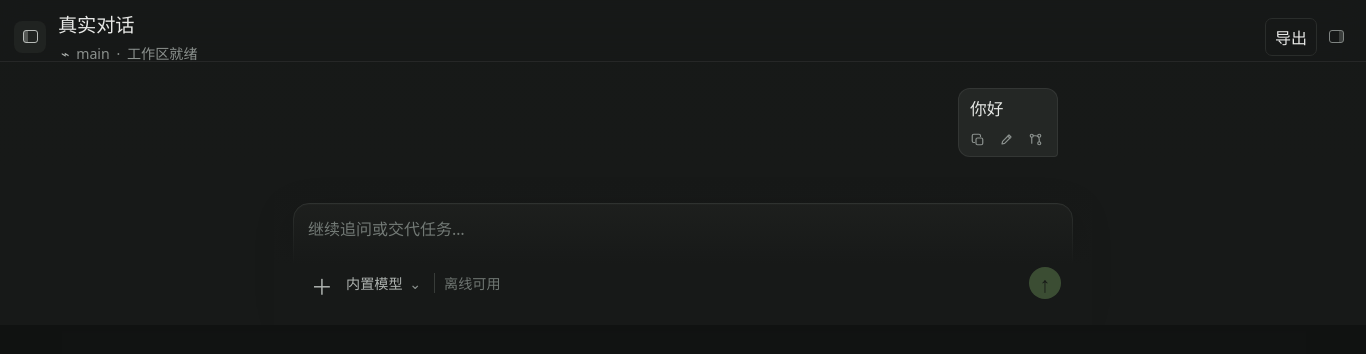
Test case: conversation timeline projection › keeps selected attachments while recalling history and explains attachment limits
The image size is (1366, 354).
Click the button named "添加上下文文件" at (319, 283), box [305, 269, 333, 297]
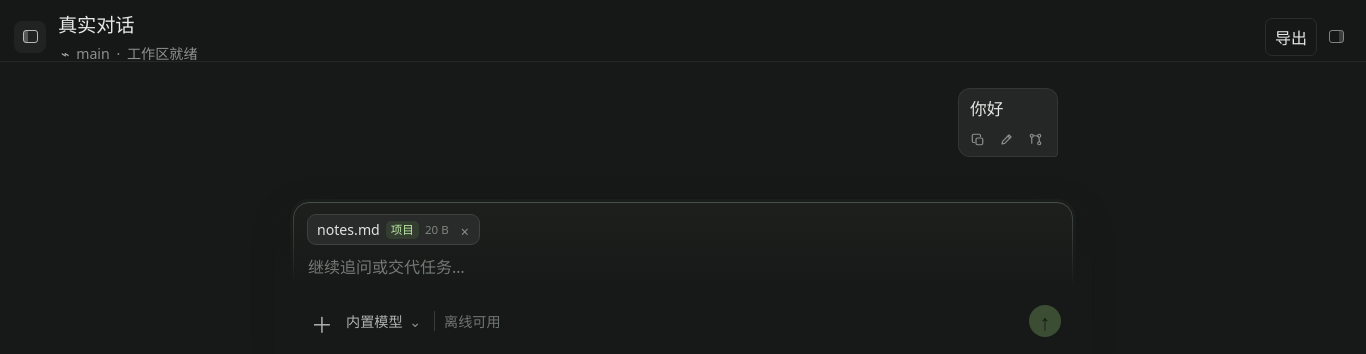
Now the element named "已添加上下文" shows "notes.md", box [317, 220, 380, 239]
Press ArrowUp in the text box named "任务输入", box [305, 253, 1061, 305]
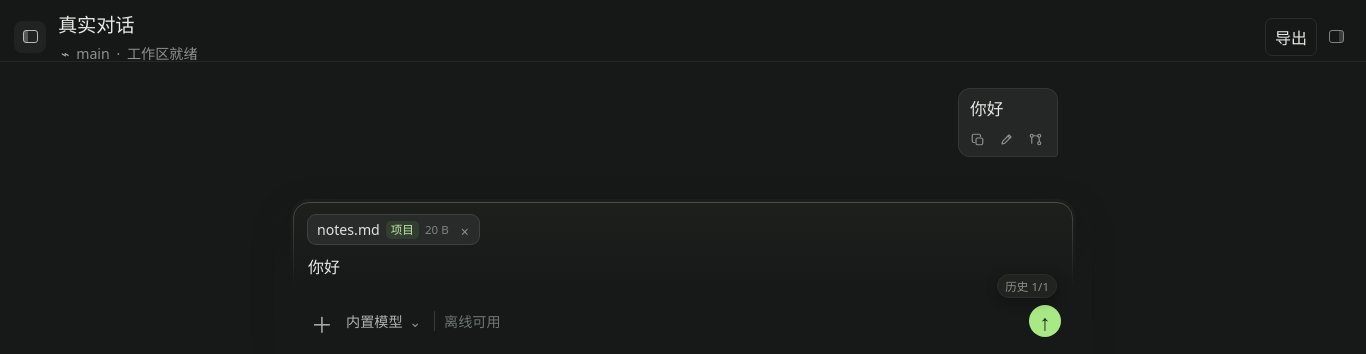
Now the element named "已添加上下文" shows "notes.md", box [317, 220, 380, 239]
Now the text box named "任务输入" holds "你好", box [305, 253, 1061, 305]
